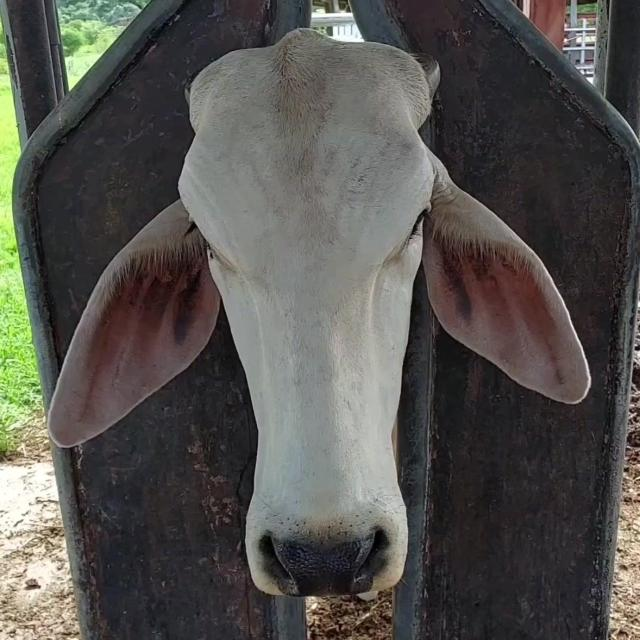cowFace: (185, 37, 433, 594)
